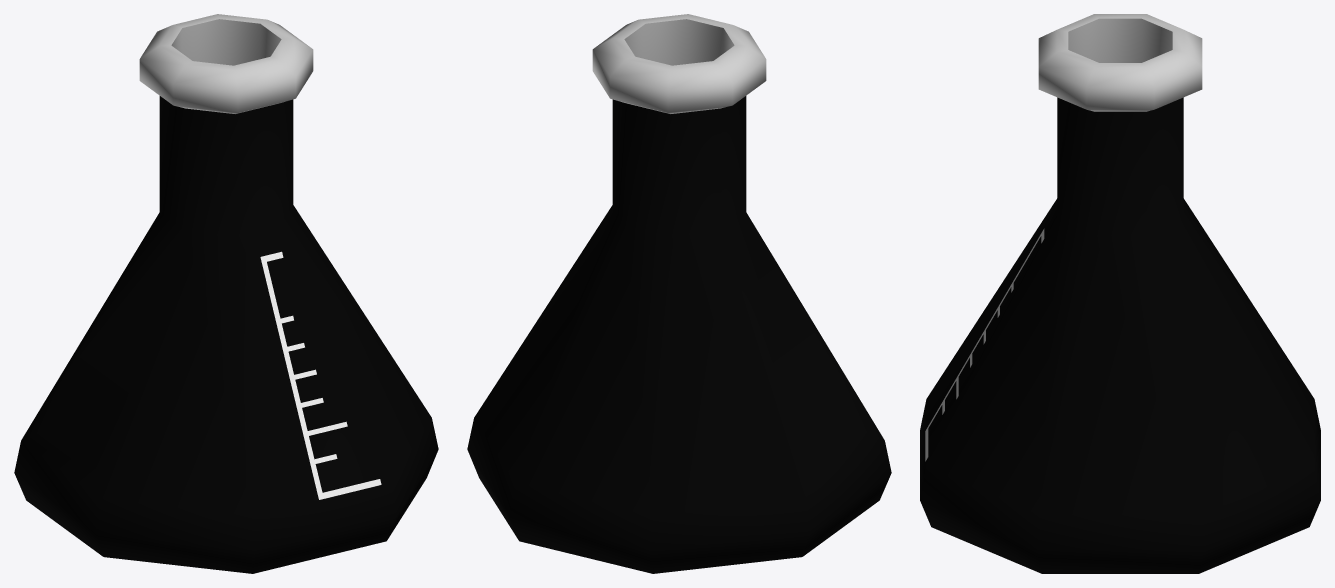
File: CR_sci_Beaker_003.FBX
3 views of the same model, side by side, from view 1: azimuth 30°, elevation 25°; view 2: azimuth 150°, elevation 25°; view 3: azimuth 270°, elevation 25° (orthographic).
Parts seen in each view (by area): view 1: CR_sci_Beaker_003_al, CR_sci_Beaker_003; view 2: CR_sci_Beaker_003_al; view 3: CR_sci_Beaker_003_al, CR_sci_Beaker_003.
Part boxes in pixels (left/top/right/bottom): CR_sci_Beaker_003_al: left=14, top=14, right=438, bottom=573; CR_sci_Beaker_003: left=260, top=251, right=381, bottom=499; CR_sci_Beaker_003_al: left=467, top=14, right=891, bottom=573; CR_sci_Beaker_003_al: left=920, top=14, right=1320, bottom=573; CR_sci_Beaker_003: left=925, top=228, right=1044, bottom=461.
Size of the model in its own units: 10.55 by 13.16 by 10.55.
